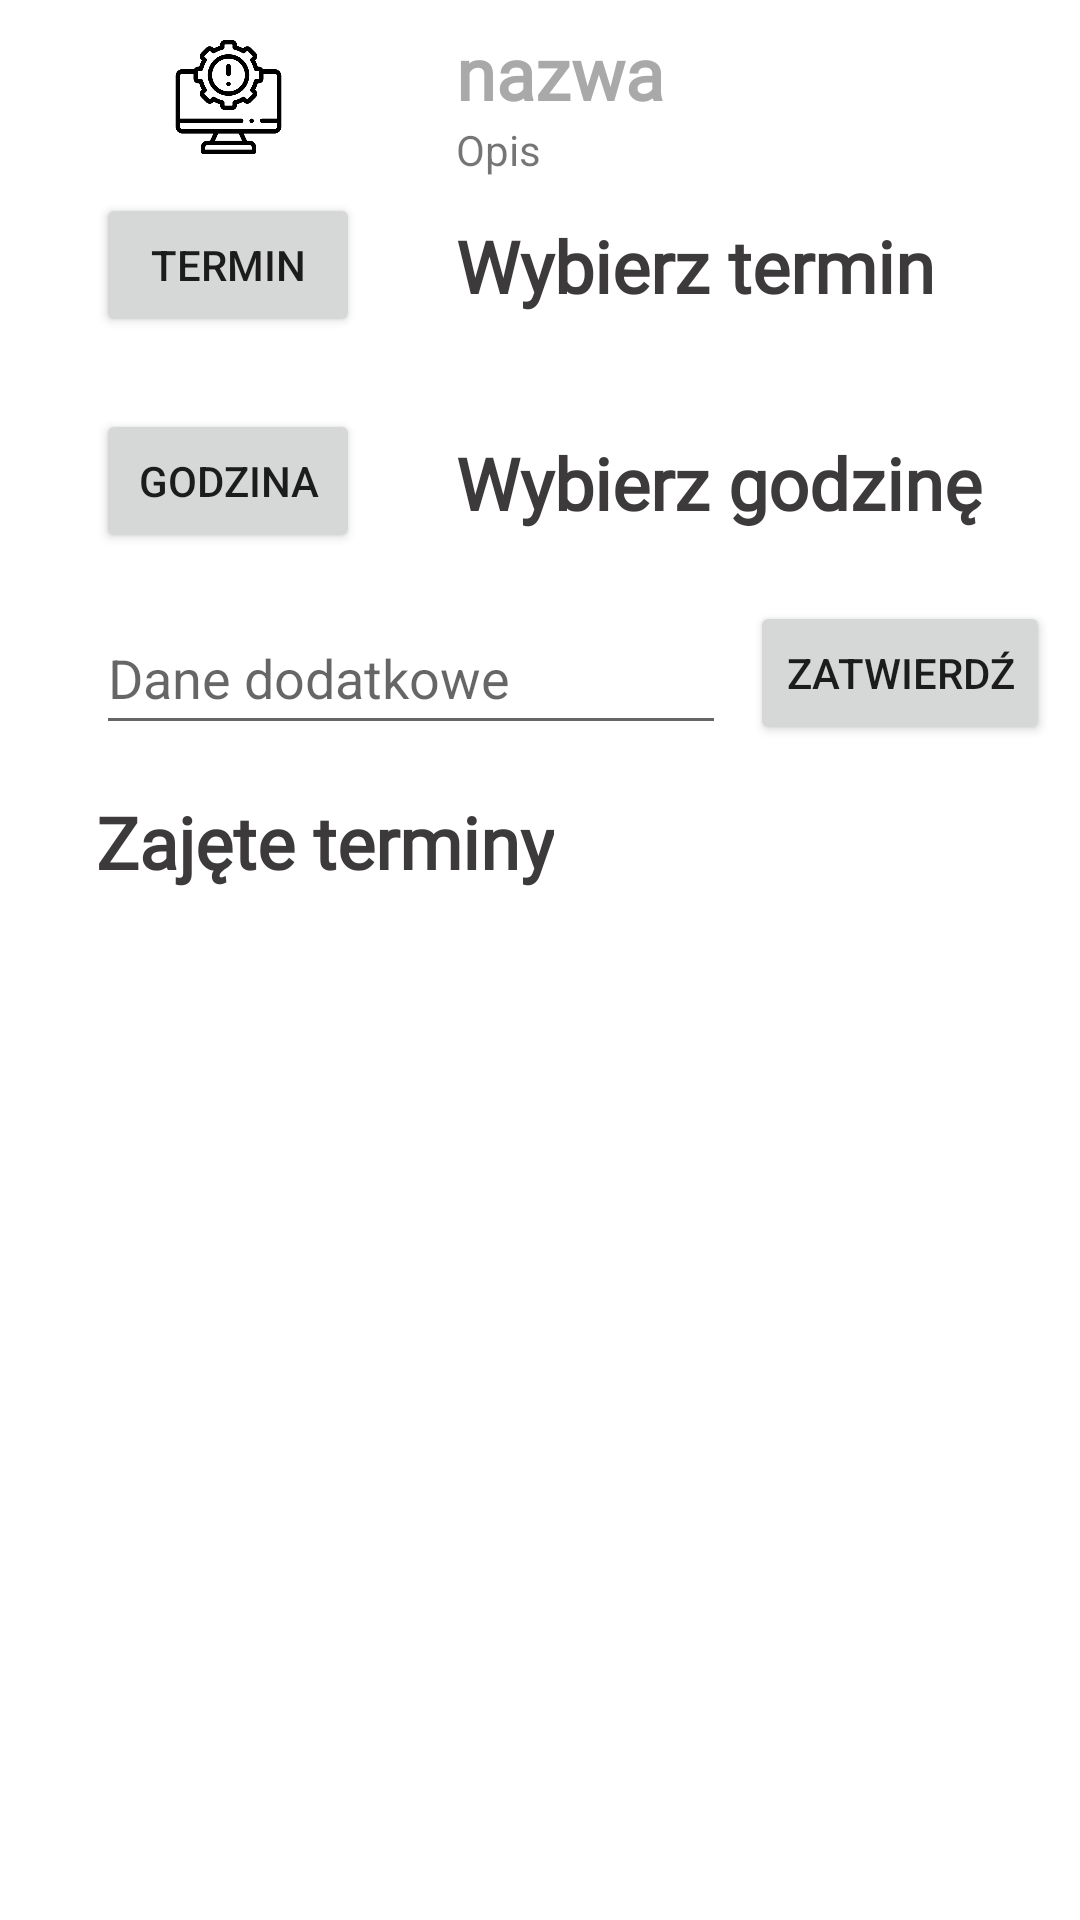

Screen size 1080px×1920px. Icon name, then its center in pixels as (x=x, y=y):
informatyka: (x=228, y=97)
